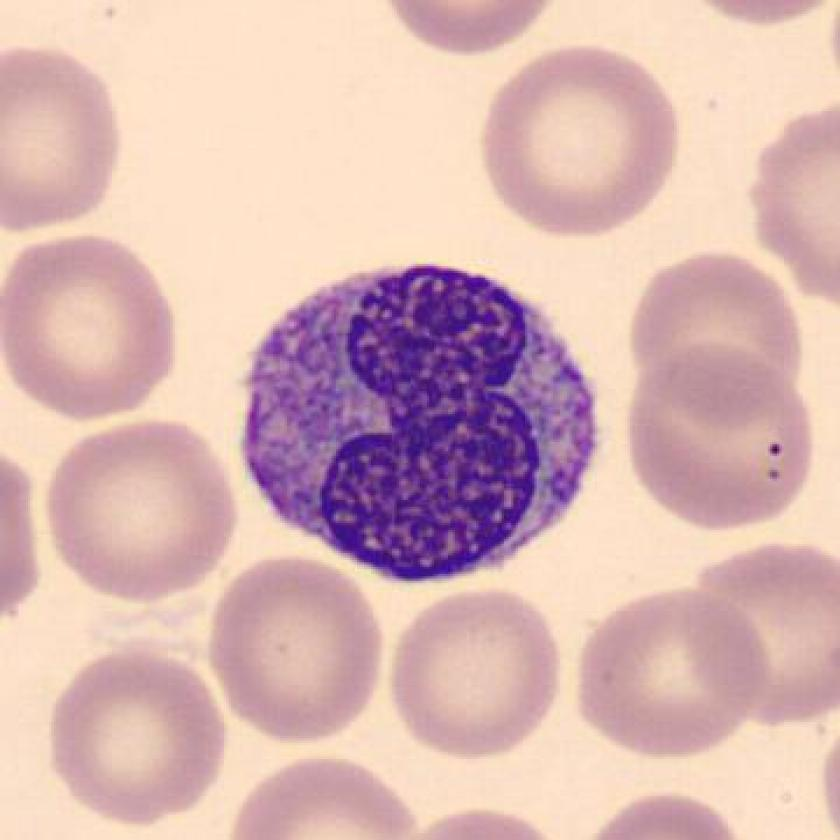monocyte: (223, 253, 619, 598)
